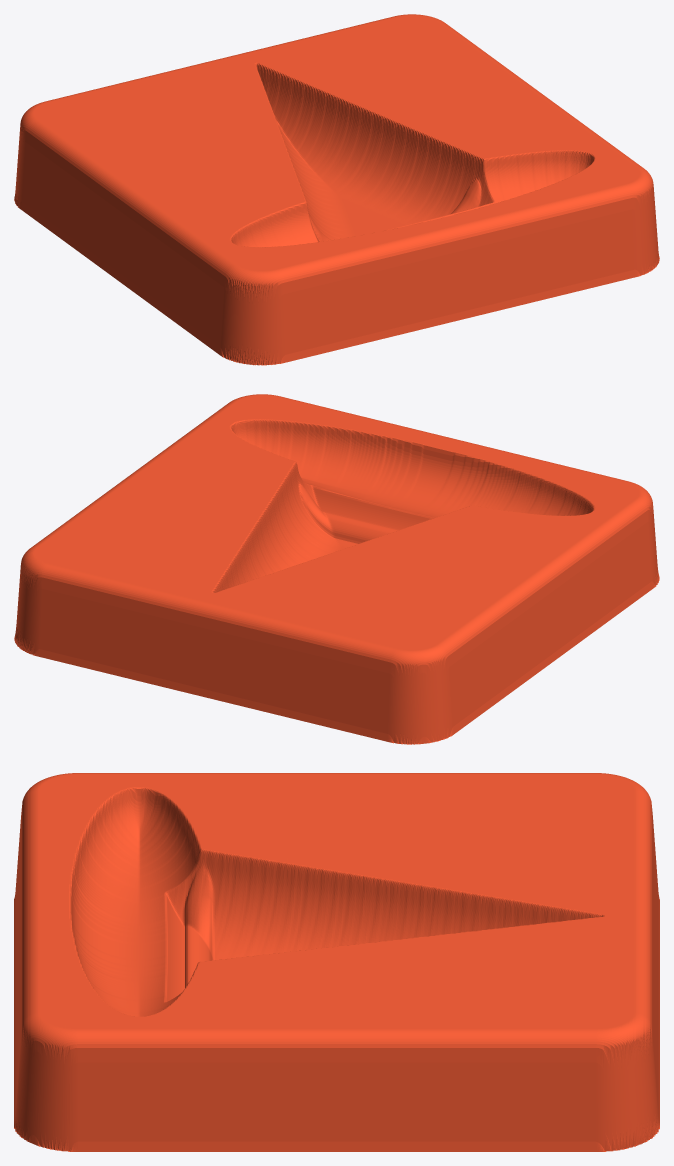
File: mold.glb
3 renders of one model, top to bottom at view 1: azimuth 30°, elevation 25°; view 2: azimuth 150°, elevation 25°; view 3: azimuth 270°, elevation 25°, orthographic. The views are drawn at different scales.
Parts seen in each view (by area): view 1: geometry_0; view 2: geometry_0; view 3: geometry_0.
Boxes of the visible parts, bbox=[...] form: geometry_0: bbox=[14, 14, 659, 365]; geometry_0: bbox=[14, 394, 659, 744]; geometry_0: bbox=[14, 773, 659, 1151].
Bounding box in the file's own units: 0.0924 × 0.0175 × 0.0914.
